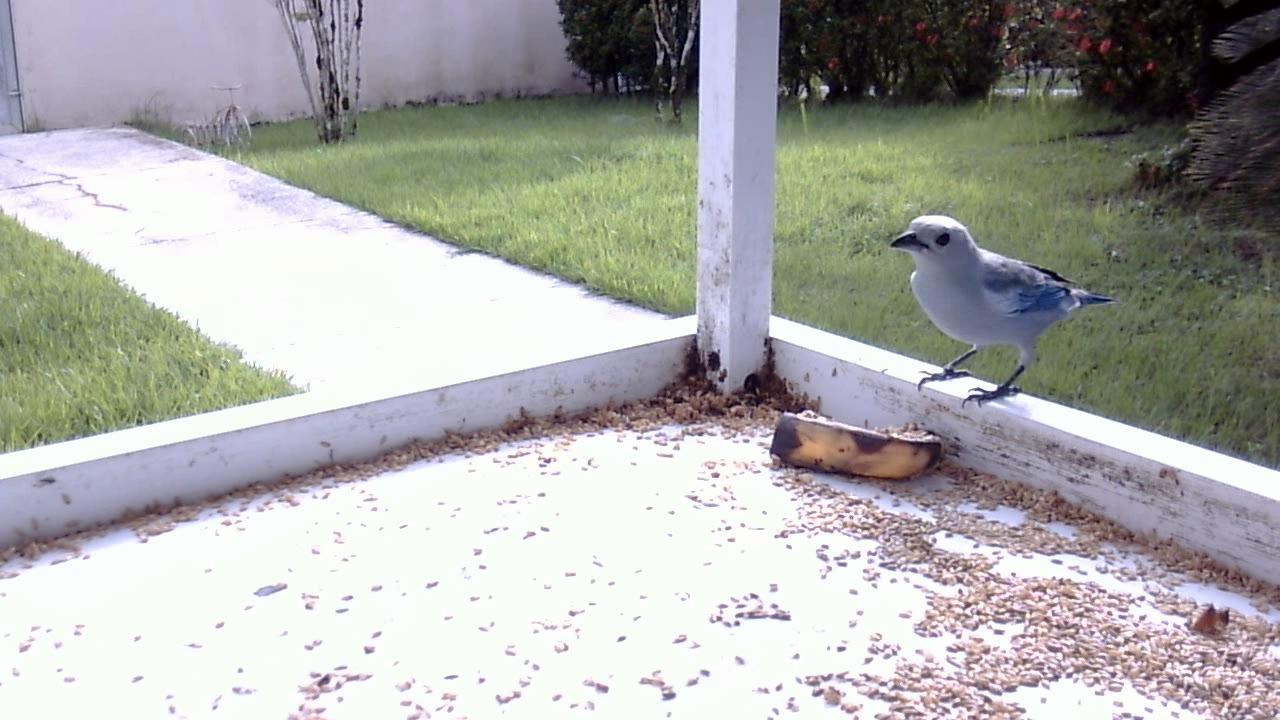sanhaco_da_amazonia: (885, 211, 1116, 422)
